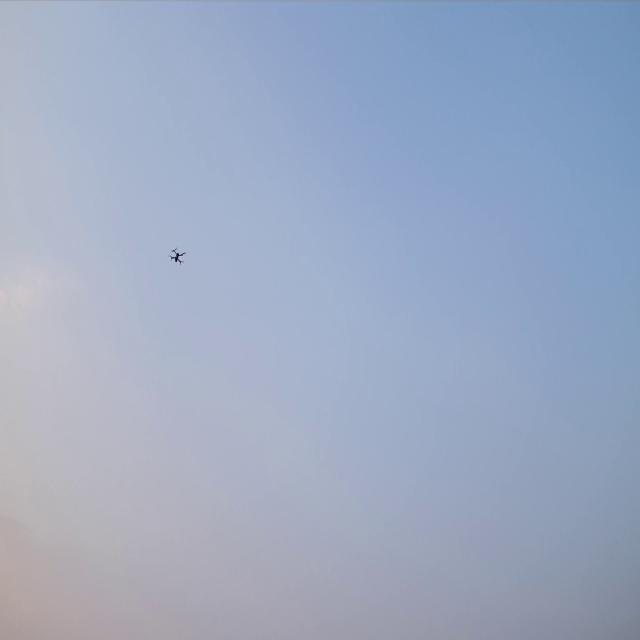UAV: (167, 245, 187, 266)
